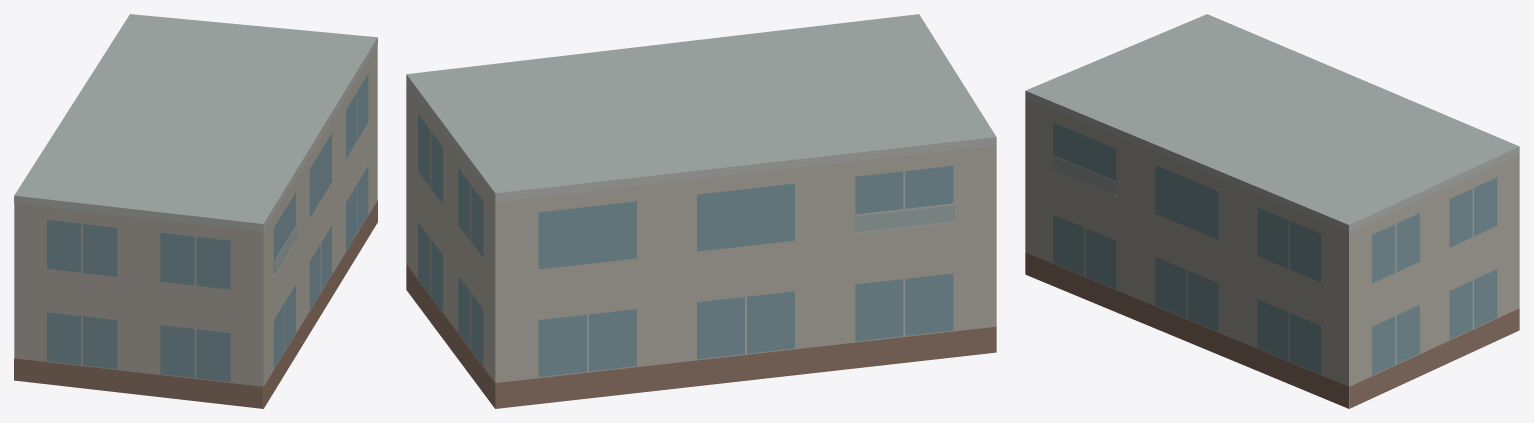
File: survey-upis-32772376.glb
3 renders of one model, left to right at view 1: azimuth 30°, elevation 25°; view 2: azimuth 150°, elevation 25°; view 3: azimuth 270°, elevation 25°, orthographic. The views are drawn at different scales.
Visible parts, largest first — view 1: survey-upis-32772376.tmp; view 2: survey-upis-32772376.tmp; view 3: survey-upis-32772376.tmp.
Part boxes in pixels (<box>): survey-upis-32772376.tmp: <box>14,14,377,408</box>; survey-upis-32772376.tmp: <box>406,14,996,408</box>; survey-upis-32772376.tmp: <box>1025,14,1519,408</box>.
Size of the model in its own units: 15.03 by 6.1 by 14.88.
